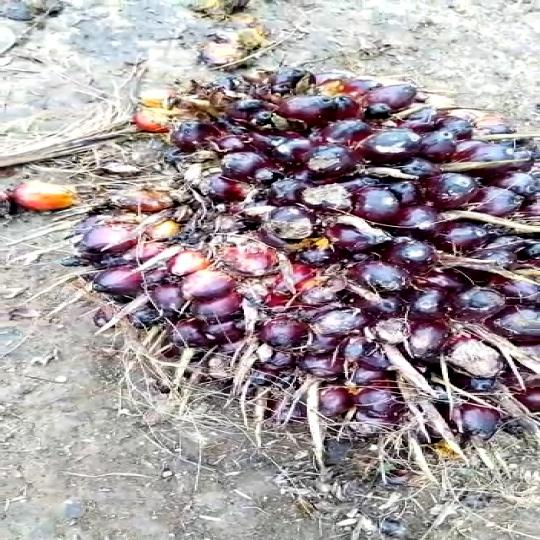mentah: (71, 69, 540, 466)
